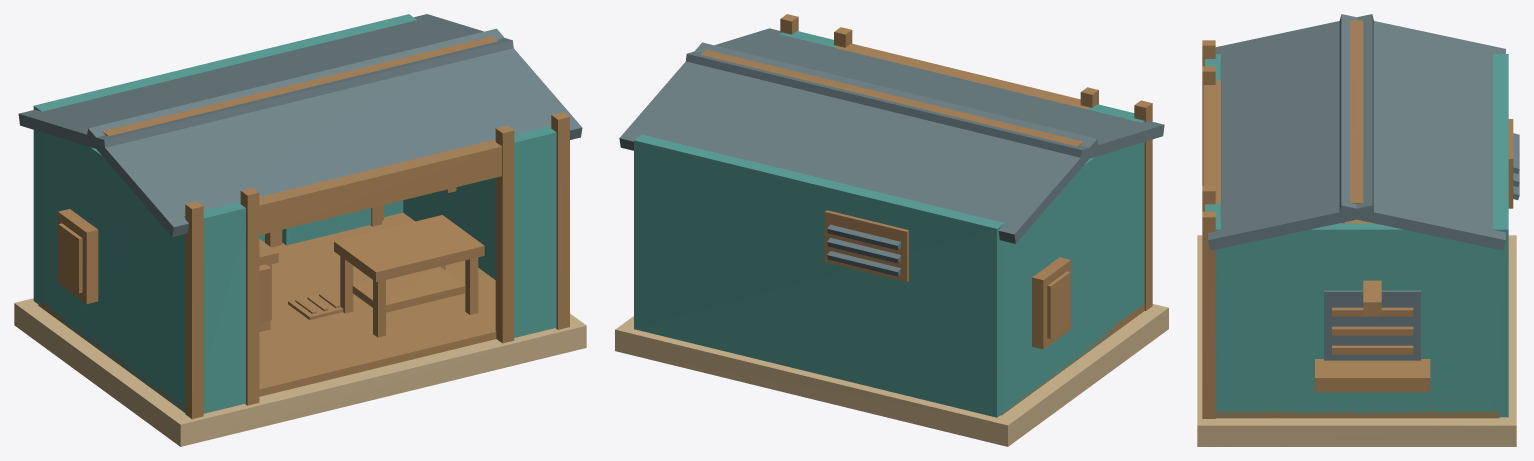
The model's file is Butcher.glb.
3 renders of one model, left to right at view 1: azimuth 30°, elevation 25°; view 2: azimuth 150°, elevation 25°; view 3: azimuth 270°, elevation 25°, orthographic. The views are drawn at different scales.
Visible parts, largest first — view 1: butcher-static-butcher-galvanized-roof-ventilation, butcher-static-butcher-insulated-pale-panel, butcher-static-butcher-dark-rail-service-trim, butcher-static-butcher-clean-stainless-equipment, butcher-static-butcher-washable-stone-curb; view 2: butcher-static-butcher-insulated-pale-panel, butcher-static-butcher-galvanized-roof-ventilation, butcher-static-butcher-washable-stone-curb, butcher-static-butcher-dark-rail-service-trim, butcher-static-butcher-clean-stainless-equipment; view 3: butcher-static-butcher-galvanized-roof-ventilation, butcher-static-butcher-insulated-pale-panel, butcher-static-butcher-washable-stone-curb, butcher-static-butcher-dark-rail-service-trim, butcher-static-butcher-clean-stainless-equipment.
Boxes of the visible parts, x1,y1,x2,y2 form: butcher-static-butcher-galvanized-roof-ventilation: (18,14,582,236); butcher-static-butcher-insulated-pale-panel: (33,14,556,413); butcher-static-butcher-dark-rail-service-trim: (58,36,569,419); butcher-static-butcher-clean-stainless-equipment: (38,209,496,412); butcher-static-butcher-washable-stone-curb: (14,298,586,446); butcher-static-butcher-insulated-pale-panel: (634,31,1144,417); butcher-static-butcher-galvanized-roof-ventilation: (619,28,1164,276); butcher-static-butcher-washable-stone-curb: (615,304,1168,446); butcher-static-butcher-dark-rail-service-trim: (700,14,1152,338); butcher-static-butcher-clean-stainless-equipment: (1001,257,1144,415); butcher-static-butcher-galvanized-roof-ventilation: (1208,14,1519,360); butcher-static-butcher-insulated-pale-panel: (1205,54,1508,417); butcher-static-butcher-washable-stone-curb: (1197,235,1516,446); butcher-static-butcher-dark-rail-service-trim: (1202,20,1513,418); butcher-static-butcher-clean-stainless-equipment: (1215,219,1499,418).
Bounding box in the file's own units: 3.71 × 2.04 × 2.46.
